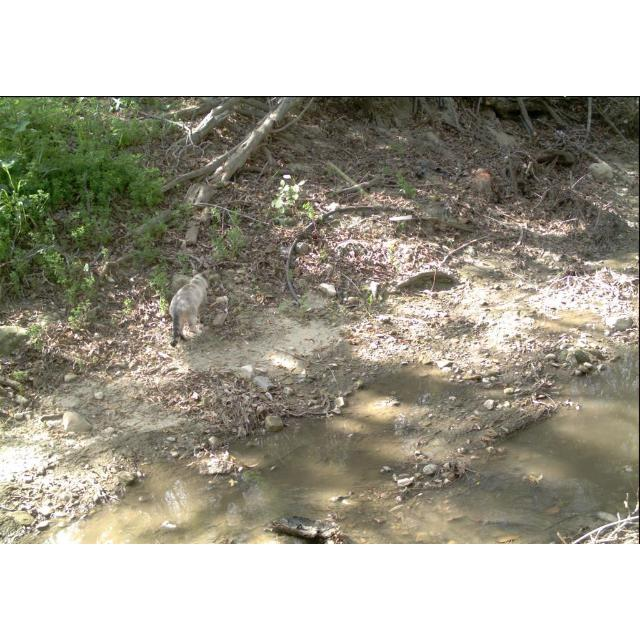animals: (168, 268, 212, 354)
